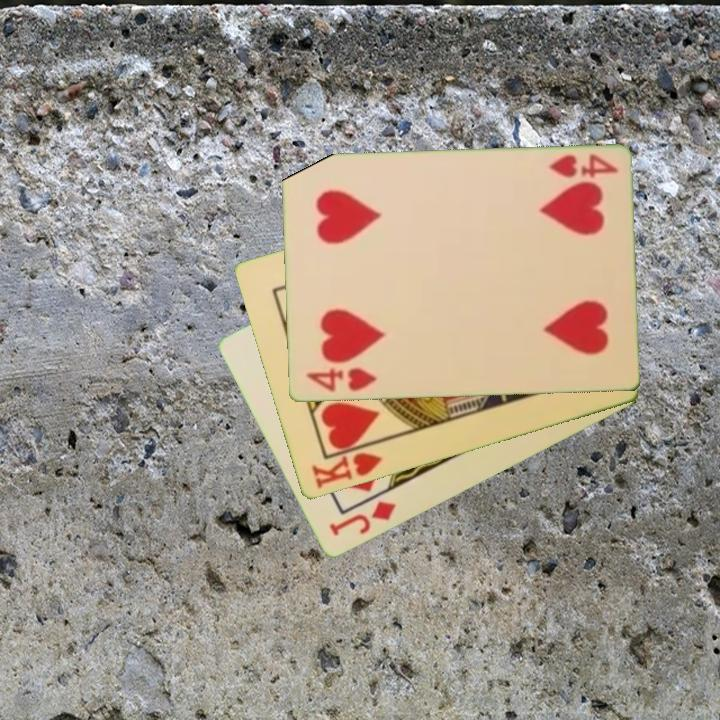4h: (303, 365, 379, 395), (546, 151, 620, 181)
Jd: (325, 498, 399, 540)
Kh: (308, 439, 384, 493)
